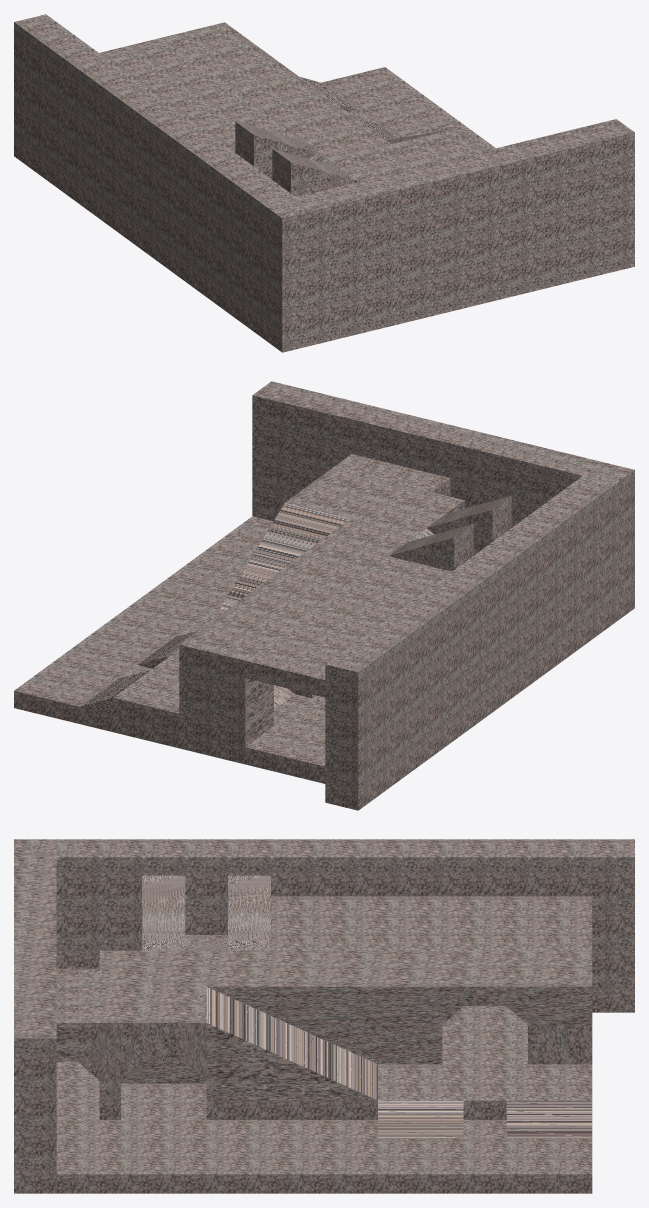
The model's file is LevelTestCollision.fbx.
The picture shows the model from 3 angles, top to bottom: view 1: azimuth 30°, elevation 25°; view 2: azimuth 150°, elevation 25°; view 3: azimuth 270°, elevation 25°; orthographic projection. The views are drawn at different scales.
Visible parts, largest first — view 1: Cube.032, Cube.019, Cube.029, Cube.020, Cube.023, Cube.024, Cube.030; view 2: Cube.032, Cube.020, Cube.019, Cube.029, Cube.022, Cube.028, Cube.030, Cube.024, Cube.023, Cube.031, Cube.036, Cube.021; view 3: Cube.032, Cube.020, Cube.019, Cube.029, Cube.022, Cube.028, Cube.030, Cube.031, Cube.023, Cube.036, Cube.021, Cube.024 (+1 smaller).
Boxes of the visible parts, x1=… form: Cube.032: x1=14, y1=14, x2=634, y2=352; Cube.019: x1=161, y1=22, x2=421, y2=182; Cube.029: x1=99, y1=38, x2=298, y2=152; Cube.020: x1=321, y1=67, x2=495, y2=150; Cube.023: x1=272, y1=148, x2=354, y2=194; Cube.024: x1=235, y1=121, x2=317, y2=167; Cube.030: x1=392, y1=128, x2=485, y2=166; Cube.032: x1=252, y1=381, x2=634, y2=810; Cube.020: x1=14, y1=516, x2=325, y2=783; Cube.019: x1=179, y1=484, x2=464, y2=746; Cube.029: x1=245, y1=556, x2=451, y2=697; Cube.022: x1=214, y1=503, x2=350, y2=618; Cube.028: x1=113, y1=649, x2=179, y2=730; Cube.030: x1=285, y1=468, x2=397, y2=518; Cube.024: x1=389, y1=523, x2=473, y2=571; Cube.023: x1=427, y1=496, x2=511, y2=543; Cube.031: x1=333, y1=454, x2=450, y2=496; Cube.036: x1=80, y1=670, x2=150, y2=714; Cube.021: x1=138, y1=631, x2=197, y2=668; Cube.032: x1=14, y1=839, x2=634, y2=1193; Cube.020: x1=56, y1=1006, x2=592, y2=1193; Cube.019: x1=99, y1=950, x2=592, y2=1083; Cube.029: x1=271, y1=896, x2=592, y2=950; Cube.022: x1=206, y1=987, x2=377, y2=1100; Cube.028: x1=206, y1=1055, x2=592, y2=1119; Cube.030: x1=99, y1=986, x2=206, y2=1119; Cube.031: x1=56, y1=968, x2=99, y2=1080; Cube.023: x1=142, y1=875, x2=185, y2=950; Cube.036: x1=506, y1=1100, x2=592, y2=1137; Cube.021: x1=378, y1=1100, x2=463, y2=1137; Cube.024: x1=228, y1=875, x2=270, y2=950.
Bounding box in the file's own units: 44 × 16 × 58.
